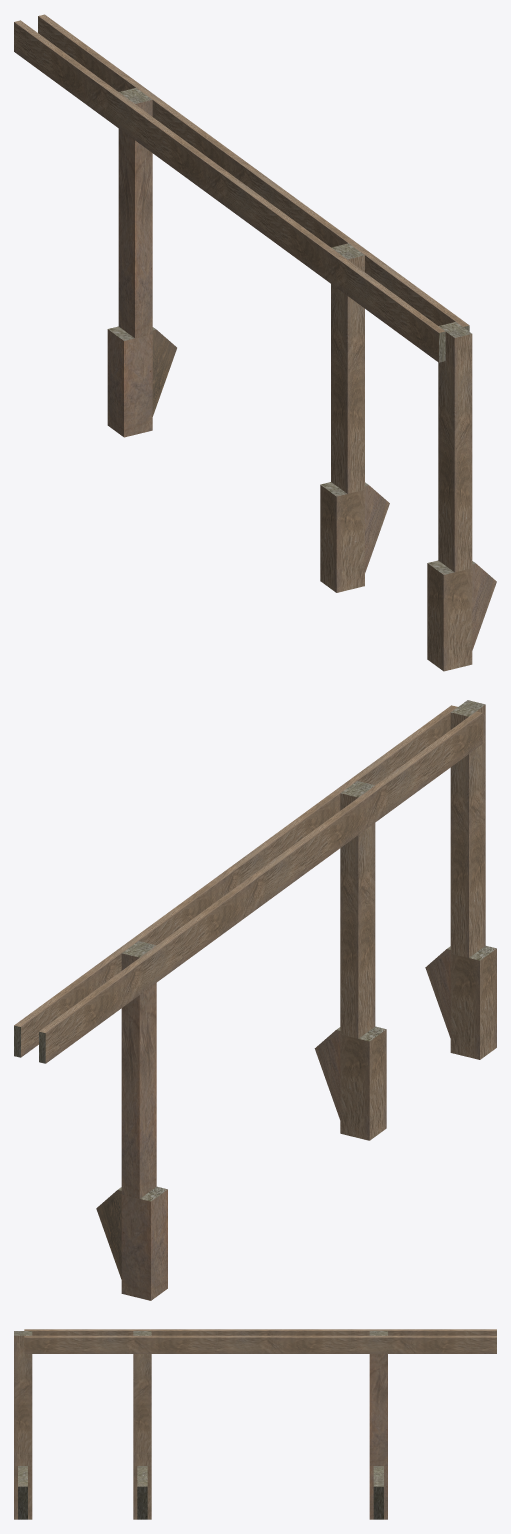
File: WoodFloorHalfRailA.fbx
3 views of the same model, one above another, from view 1: azimuth 30°, elevation 25°; view 2: azimuth 150°, elevation 25°; view 3: azimuth 270°, elevation 25° (orthographic). The views are drawn at different scales.
Parts seen in each view (by area): view 1: WoodFloorHalfRailA; view 2: WoodFloorHalfRailA; view 3: WoodFloorHalfRailA.
Boxes of the visible parts, box(x1,y1,x2,y2) form: WoodFloorHalfRailA: box(14, 14, 496, 671); WoodFloorHalfRailA: box(14, 700, 496, 1300); WoodFloorHalfRailA: box(14, 1329, 496, 1519).
Size of the model in its own units: 31.24 by 174 by 413.
